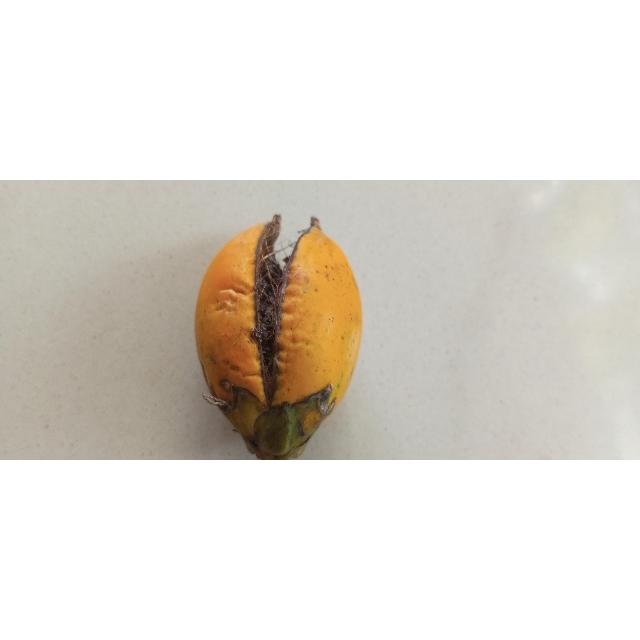damaged: (194, 215, 364, 461)
